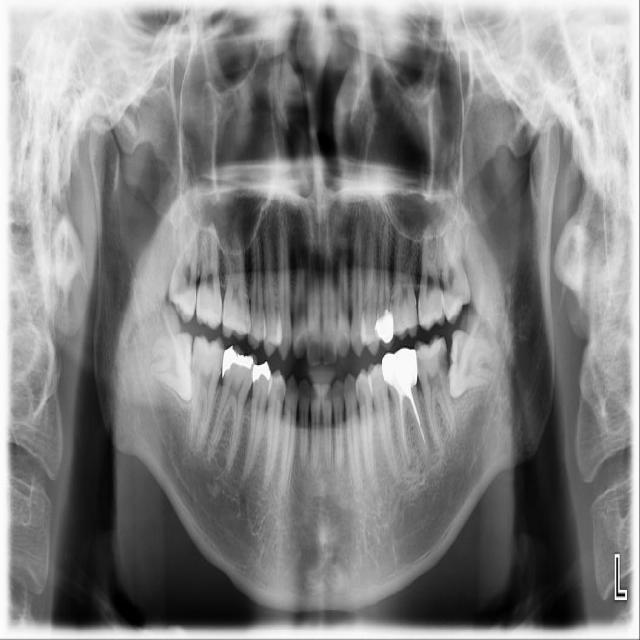3M ESPE Implant: (166, 217, 203, 327)
52: (210, 343, 266, 398), (377, 344, 426, 399), (373, 295, 395, 350), (252, 358, 273, 408), (437, 348, 447, 374)
73: (390, 385, 433, 469), (584, 564, 591, 578)
BioHorizons Implant: (416, 215, 449, 333)
BioLife Implant: (438, 191, 472, 326)
Biomet 3i Implant: (446, 329, 504, 405)
Blue Sky Bio Implant: (410, 330, 460, 451)
Caries: (195, 221, 229, 330)
Implant: (187, 331, 226, 450)
Keystone Dental Implant: (150, 331, 196, 402)
